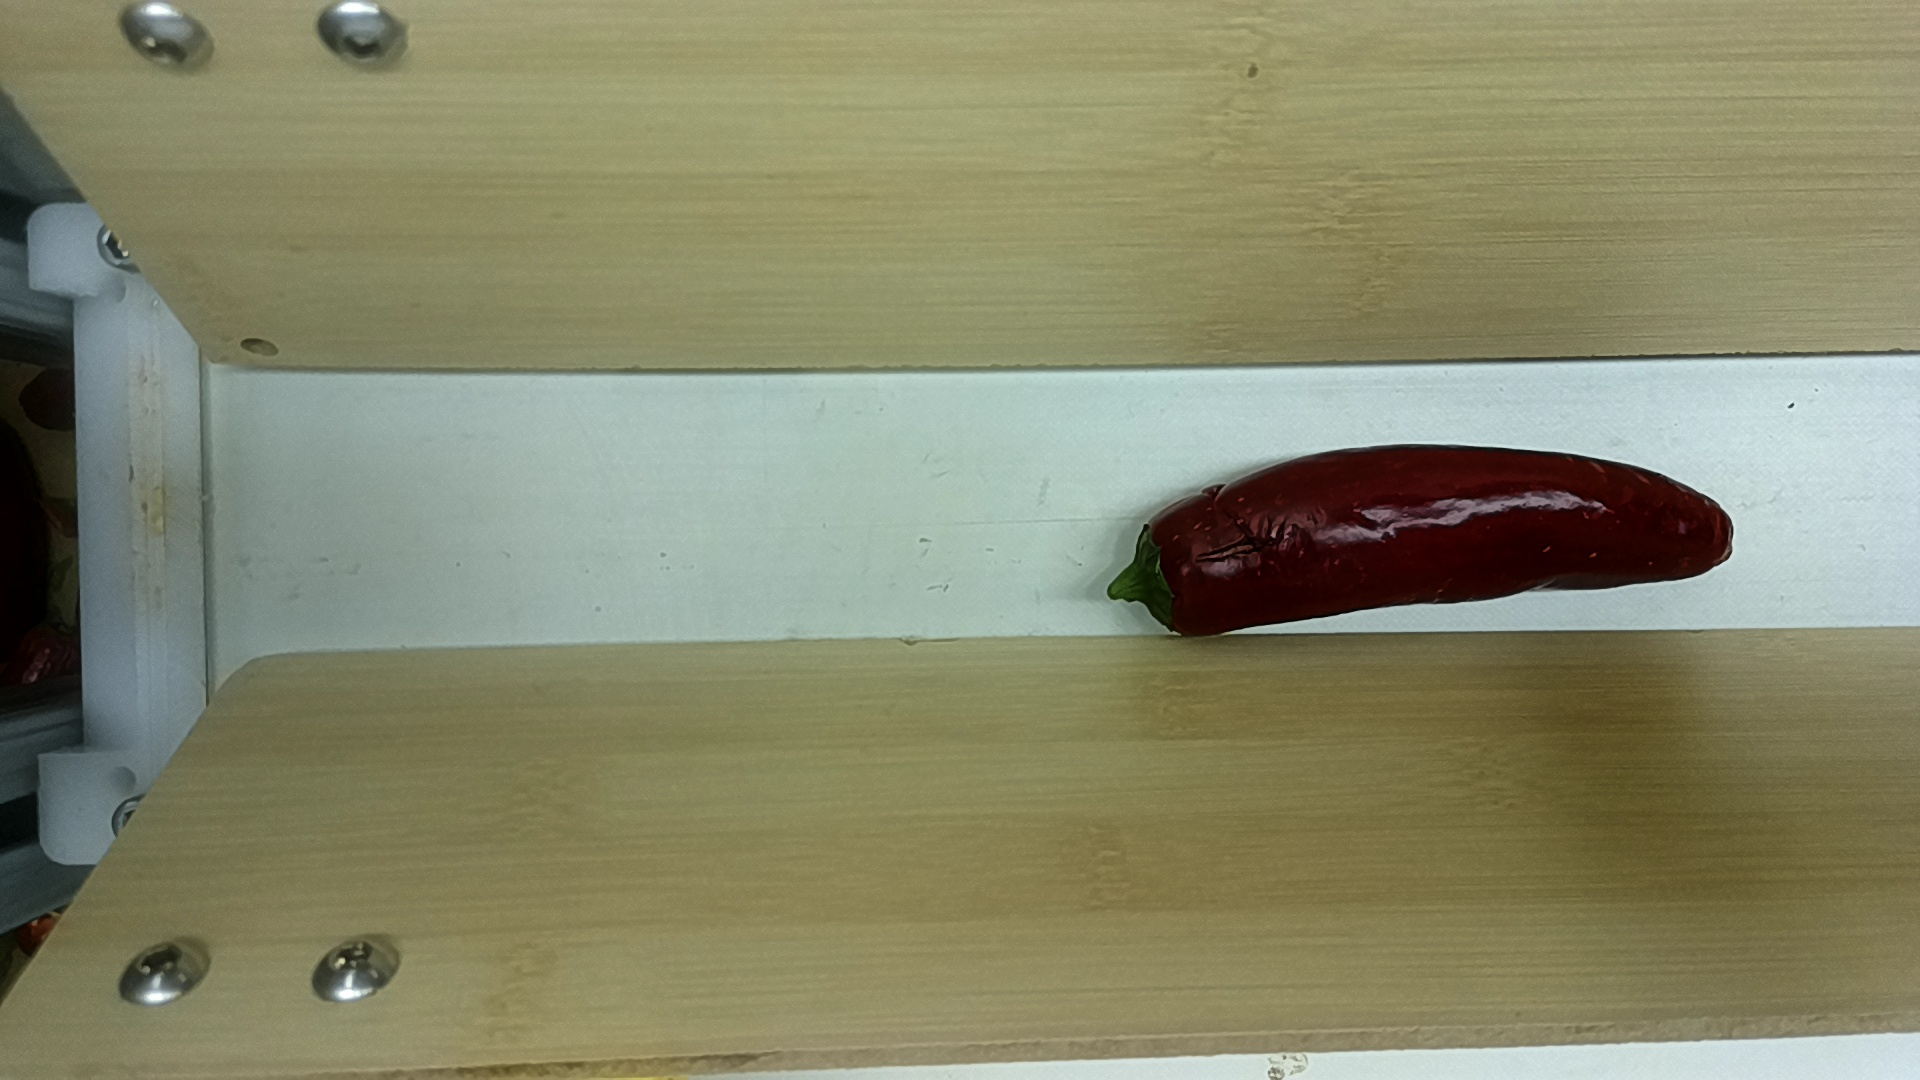Cut Point: (1120, 498, 1211, 644)
